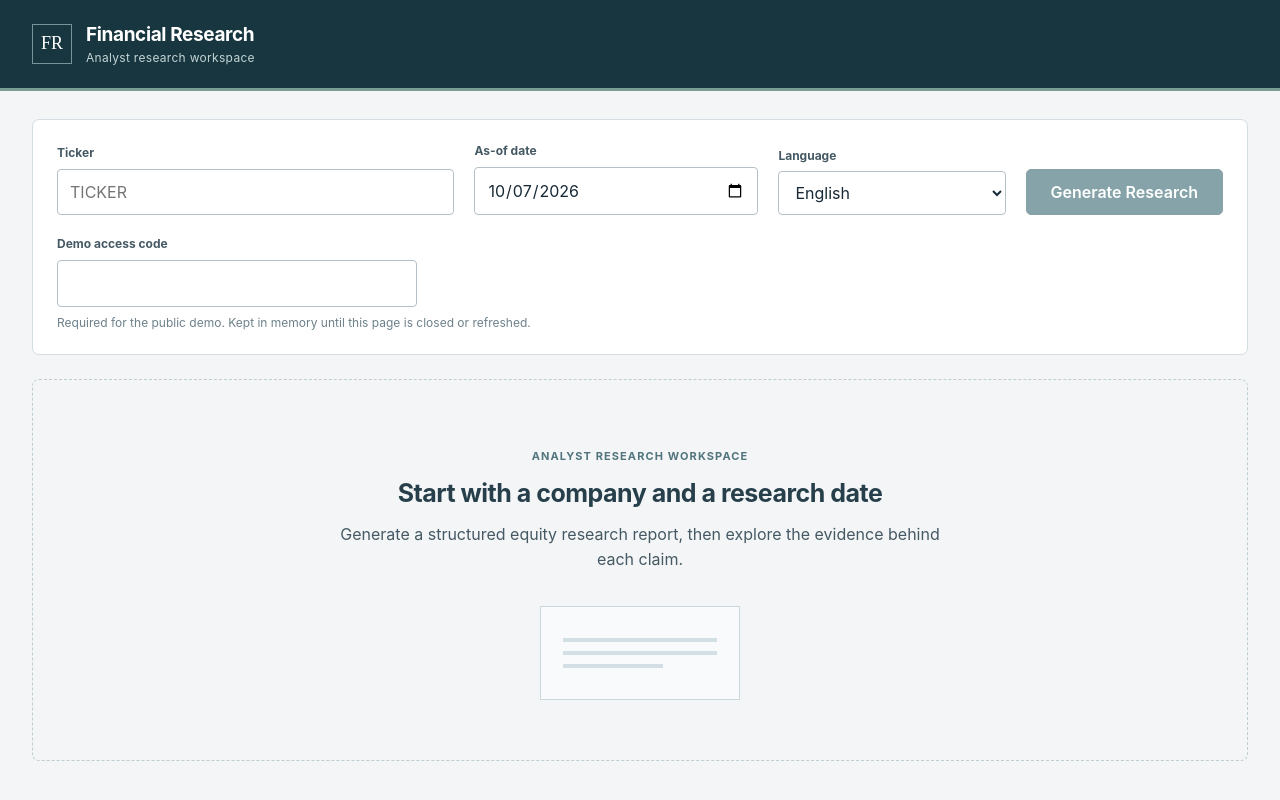
Test case: supports the Chinese production shell and busy message
Select "中文" in the dropdown labelled "Language": (892, 193) [778,171,1006,215]
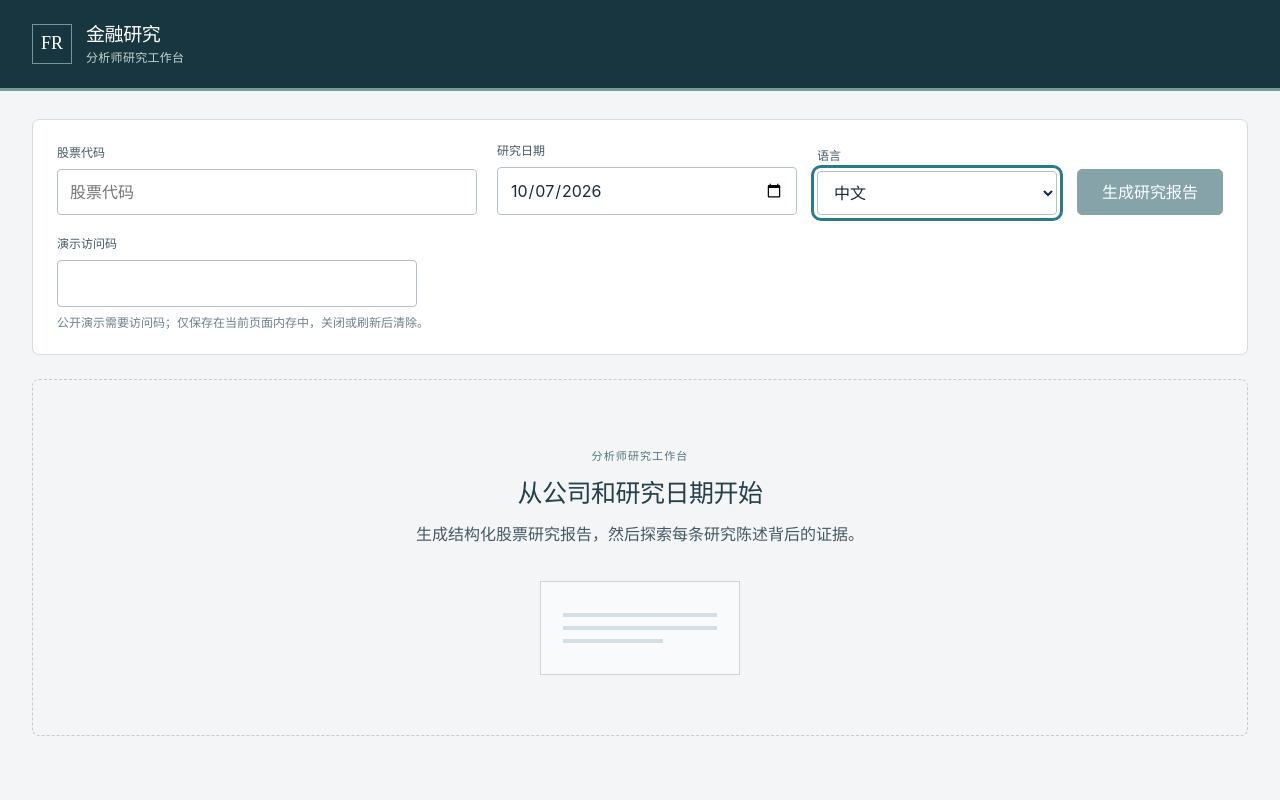
In the field labelled "股票代码": (267, 192) [57,169,477,215], type "TEST"
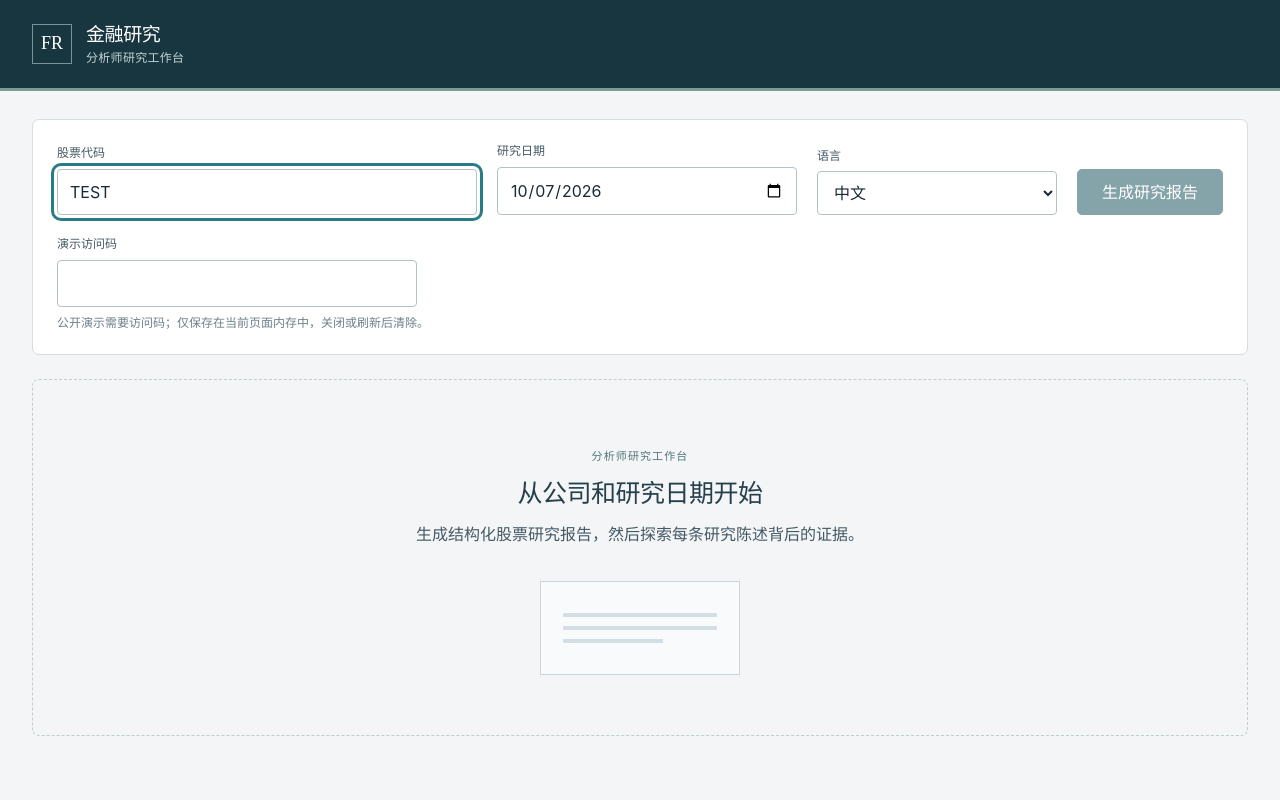
In the password field labelled "演示访问码": (237, 283) [57,260,417,307], type "synthetic-user-entered-code"
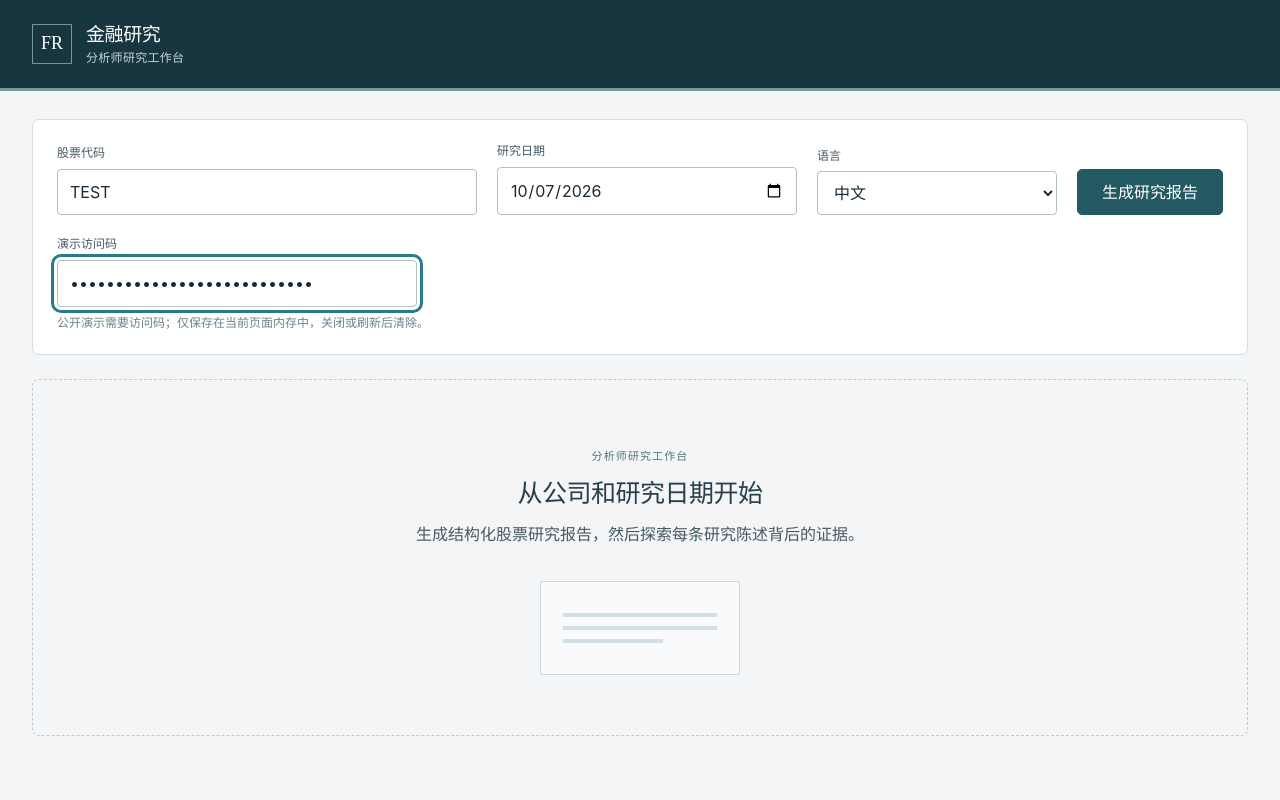
Click the button "生成研究报告": (1150, 192) [1077,169,1223,215]
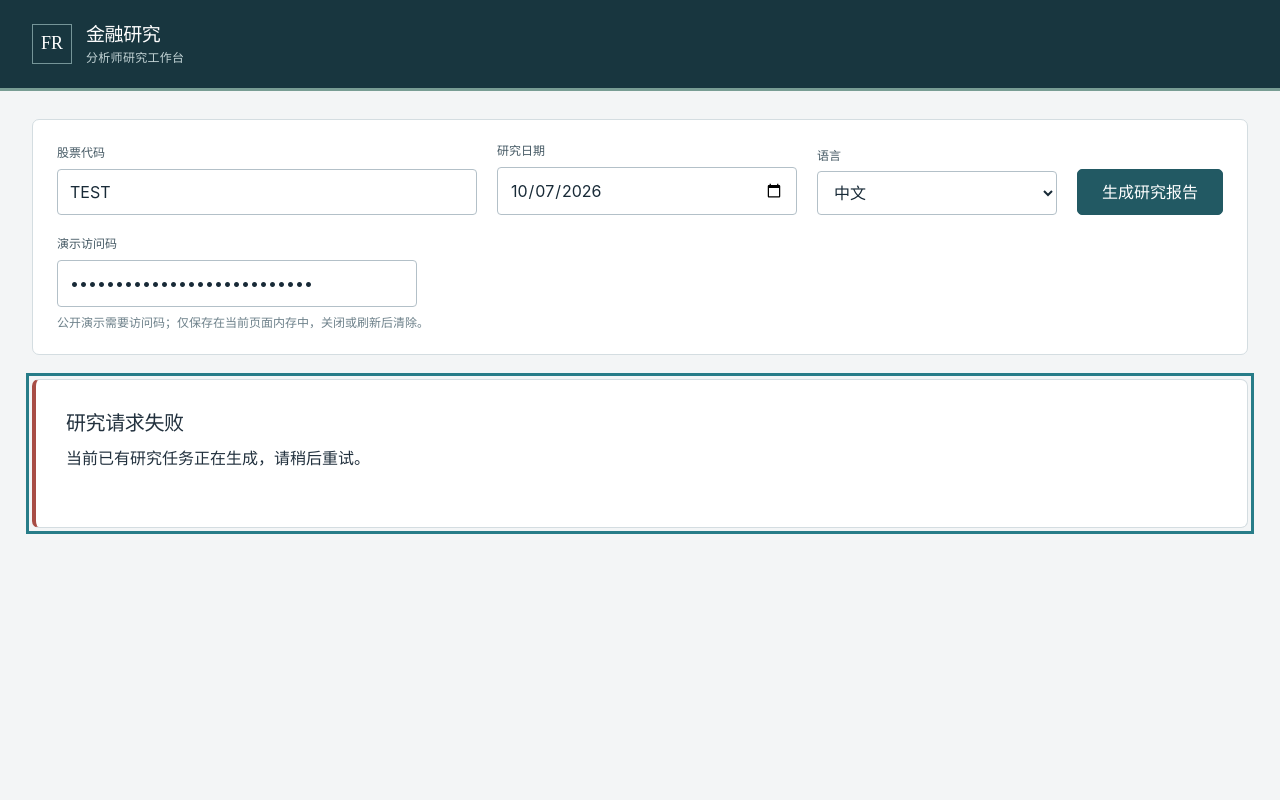
Check: the message shows "当前已有研究任务正在生成，请稍后重试。", box [66,448,370,468]
